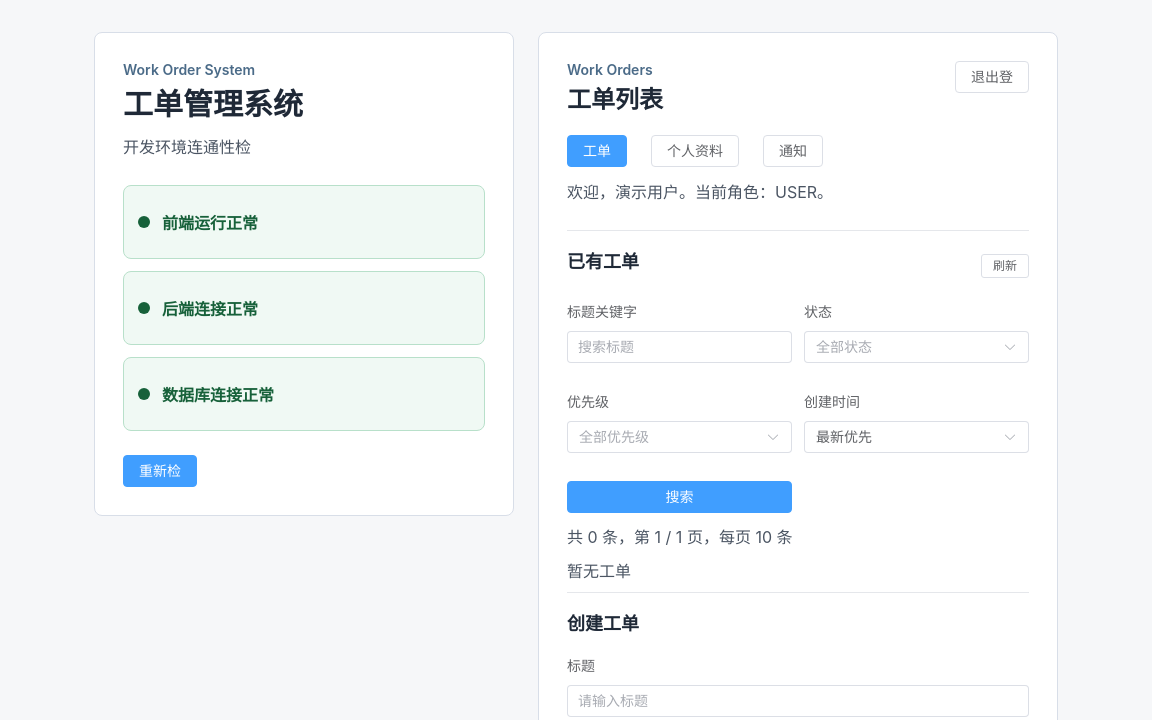
Test case: App › updates nickname without editing username or role
Click the button "个人资料" at (695, 151), box left=651, top=135, right=739, bottom=167
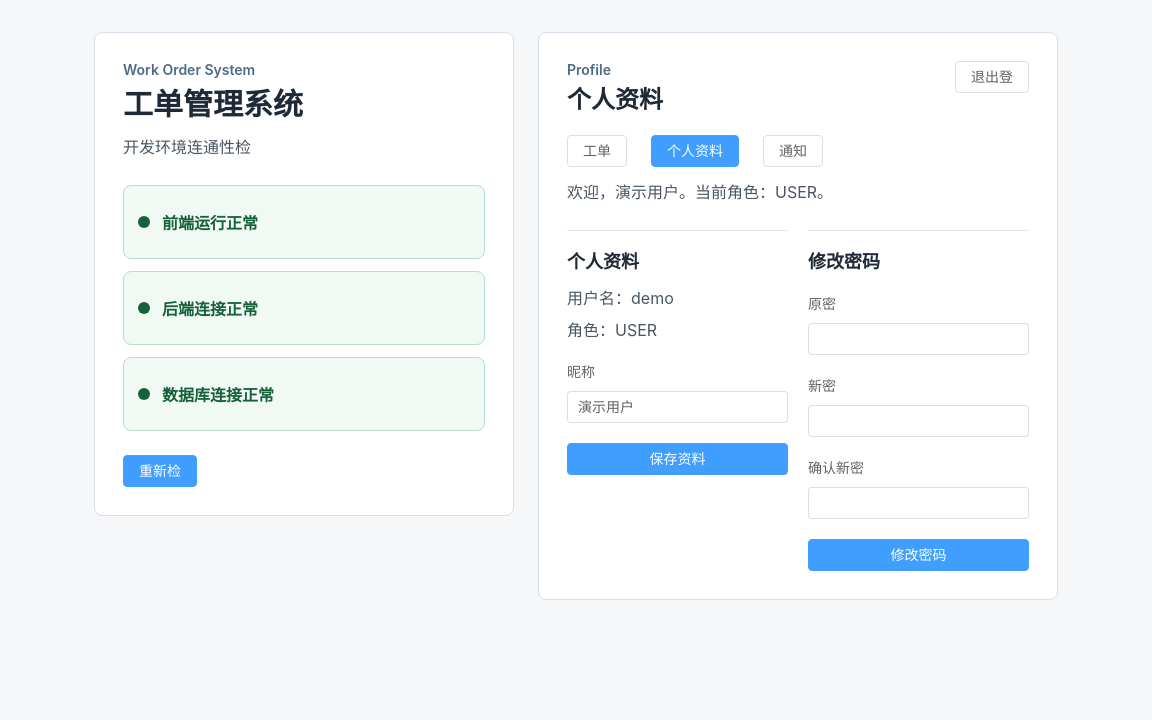
Replace the text in the field labelled "昵称" with "新昵称" at (678, 407), box left=578, top=392, right=777, bottom=422
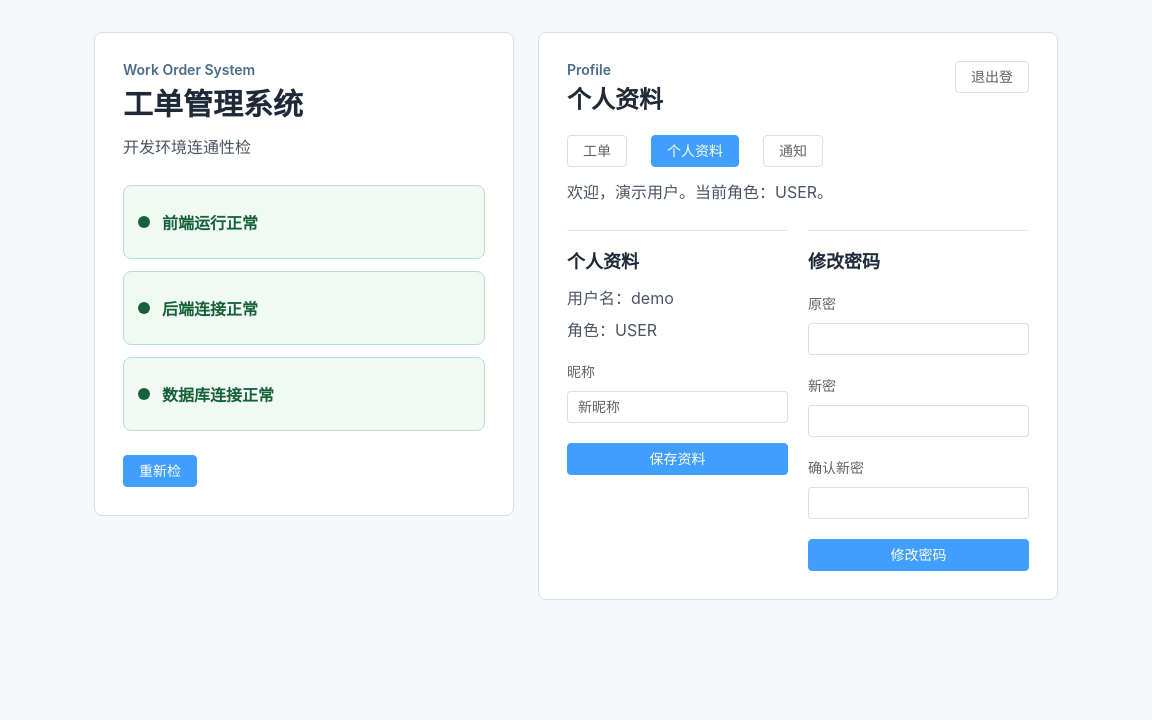
Submit the form "昵称 保存资料", box left=567, top=361, right=788, bottom=475
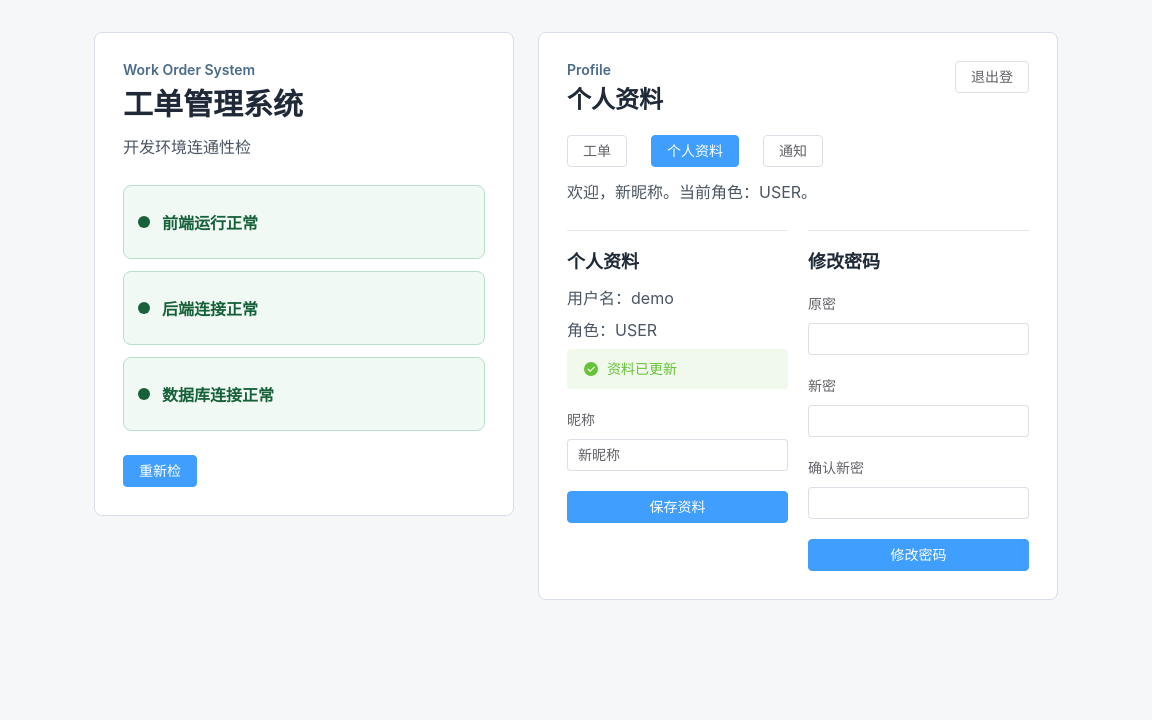
Expected: the text "角色：USER" is shown, left=567, top=182, right=817, bottom=202
Expected: the text "用户名：demo" is shown, left=567, top=288, right=674, bottom=308
Expected: the text "资料已更新" is shown, left=607, top=357, right=677, bottom=381
